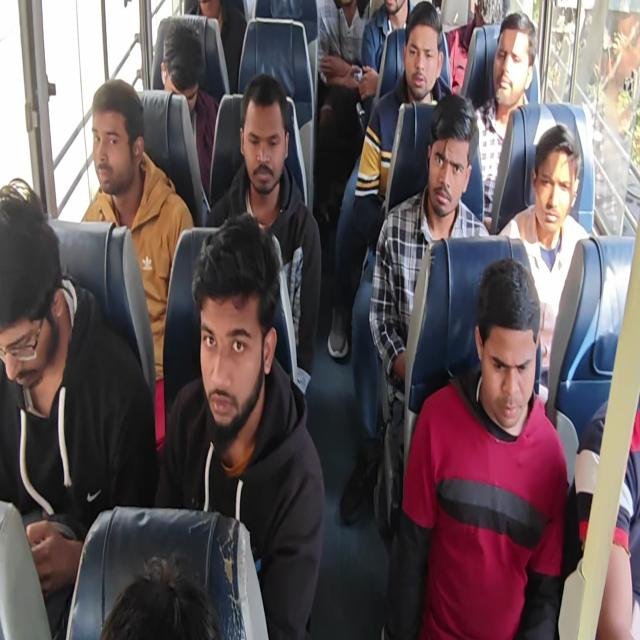person: (1, 2, 637, 638), (0, 178, 159, 637), (155, 212, 326, 638), (382, 256, 570, 638), (368, 92, 491, 529), (327, 1, 454, 358), (80, 79, 194, 452), (205, 72, 322, 394), (498, 122, 591, 394), (561, 396, 640, 639), (466, 11, 538, 230), (314, 0, 375, 219), (160, 23, 219, 203), (99, 553, 222, 639), (445, 0, 507, 96), (185, 0, 247, 95), (360, 0, 414, 75)
